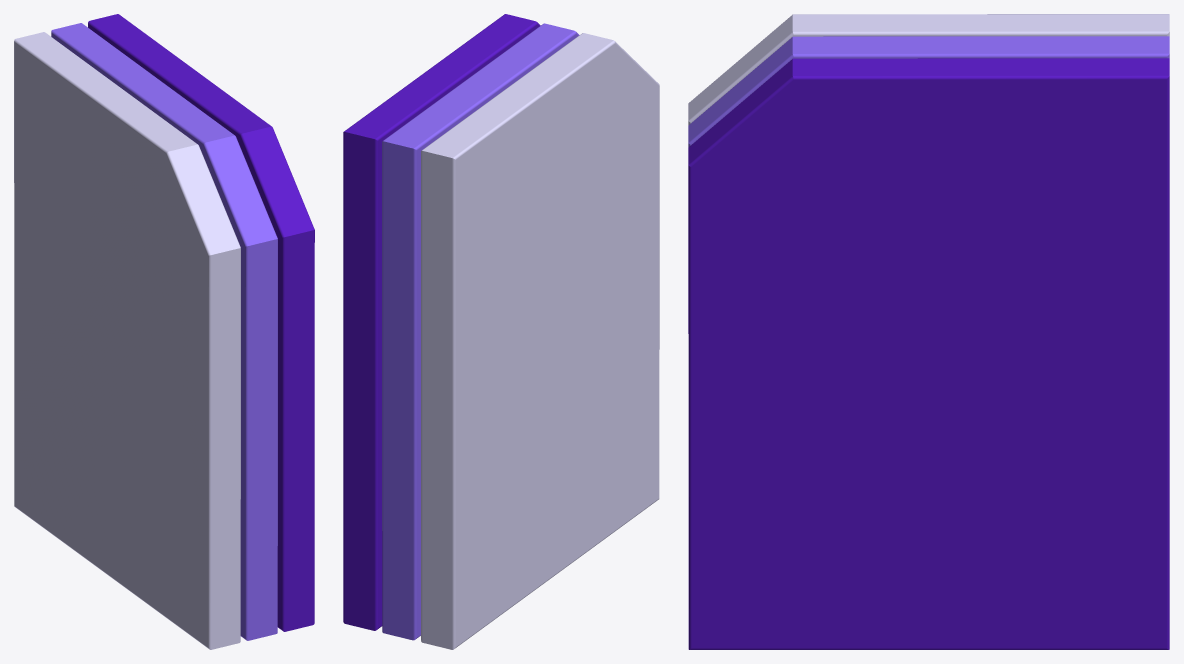
File: 3folders.glb
3 renders of one model, left to right at view 1: azimuth 30°, elevation 25°; view 2: azimuth 150°, elevation 25°; view 3: azimuth 270°, elevation 25°, orthographic. The views are drawn at different scales.
Parts seen in each view (by area): view 1: Pentagon, Pentagon 2, Pentagon 3; view 2: Pentagon, Pentagon 3, Pentagon 2; view 3: Pentagon 3, Pentagon, Pentagon 2.
Boxes of the visible parts, left/top/right/bottom form: Pentagon: left=14, top=32, right=240, bottom=649; Pentagon 2: left=51, top=23, right=277, bottom=640; Pentagon 3: left=88, top=14, right=314, bottom=631; Pentagon: left=421, top=33, right=659, bottom=649; Pentagon 3: left=343, top=14, right=540, bottom=630; Pentagon 2: left=382, top=23, right=579, bottom=640; Pentagon 3: left=688, top=58, right=1169, bottom=649; Pentagon: left=688, top=14, right=1169, bottom=125; Pentagon 2: left=688, top=36, right=1169, bottom=147.
Size of the model in its own units: 0.4899 by 2.06 by 1.56.
